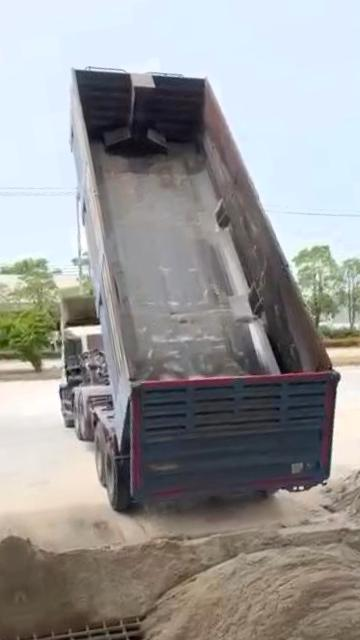sand: (13, 468, 360, 640)
